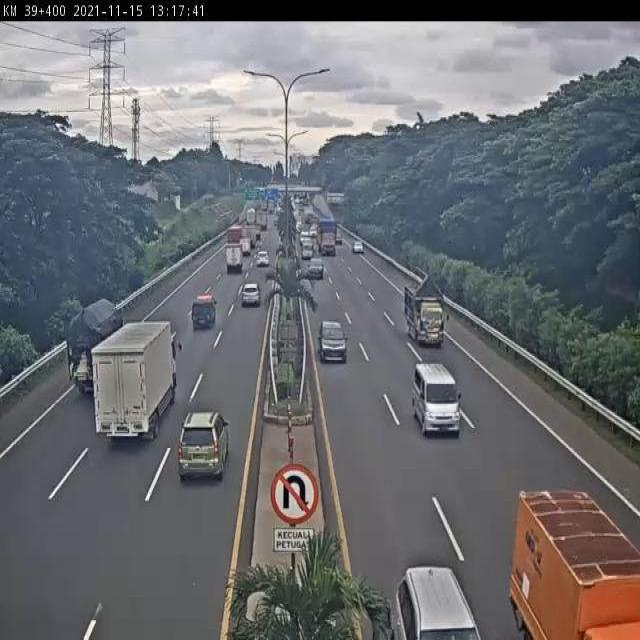car: (177, 410, 233, 482), (410, 361, 461, 439), (318, 316, 348, 367), (240, 279, 264, 309), (307, 258, 325, 282), (255, 247, 270, 269)
truck-m-: (93, 317, 181, 443), (66, 295, 129, 400), (404, 275, 445, 348), (317, 218, 339, 258), (223, 242, 245, 274)
truck-s-: (191, 292, 219, 331)
